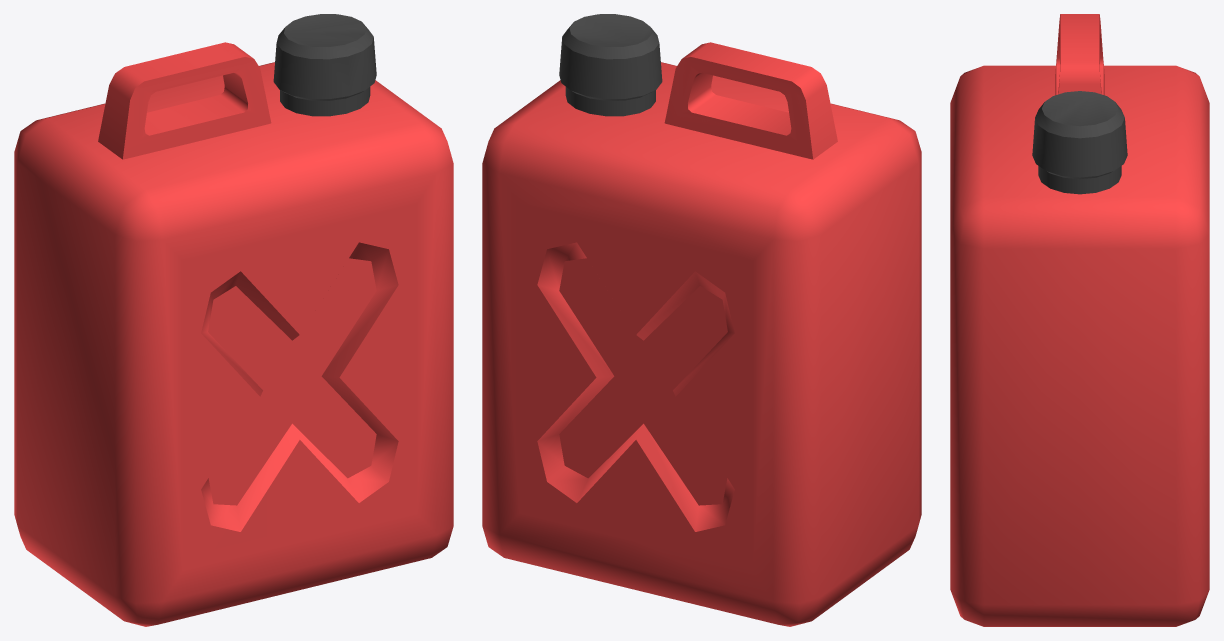
File: Fuel.fbx
The picture shows the model from 3 angles, left to right: view 1: azimuth 30°, elevation 25°; view 2: azimuth 150°, elevation 25°; view 3: azimuth 270°, elevation 25°; orthographic projection.
Visible parts, largest first — view 1: Fuel; view 2: Fuel; view 3: Fuel.
Part boxes in pixels (box(x1,y1,x2,y2)): Fuel: box(14, 14, 453, 626); Fuel: box(482, 14, 921, 626); Fuel: box(950, 14, 1209, 626).
Size of the model in its own units: 35.33 by 51.07 by 24.01.
